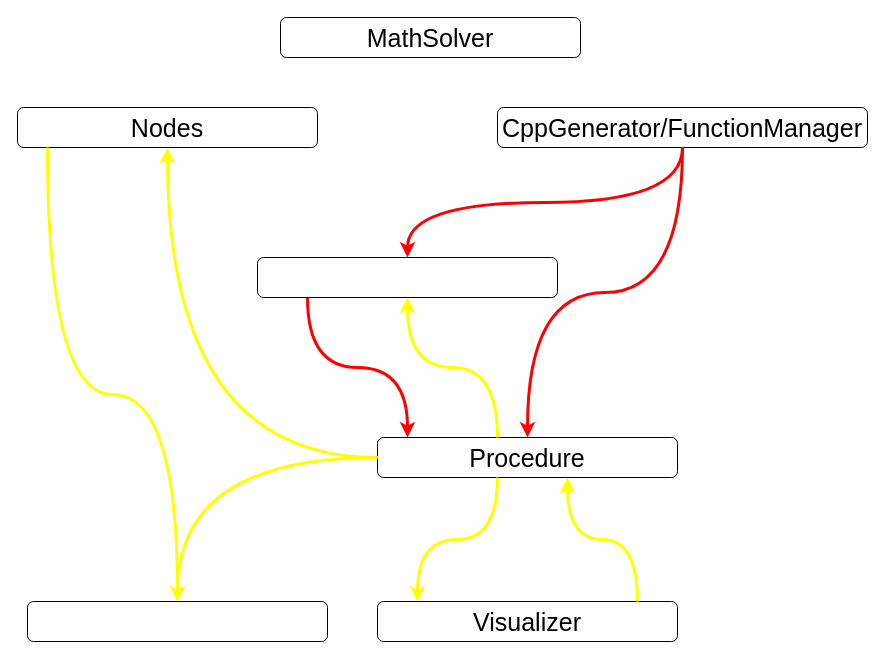
This 885x659 diagram has some shape labels left out. Each missing label, with the centre of its shape:
"CppGenerator/Generator" belongs at (x=407, y=277).
"Registry" belongs at (x=177, y=621).
